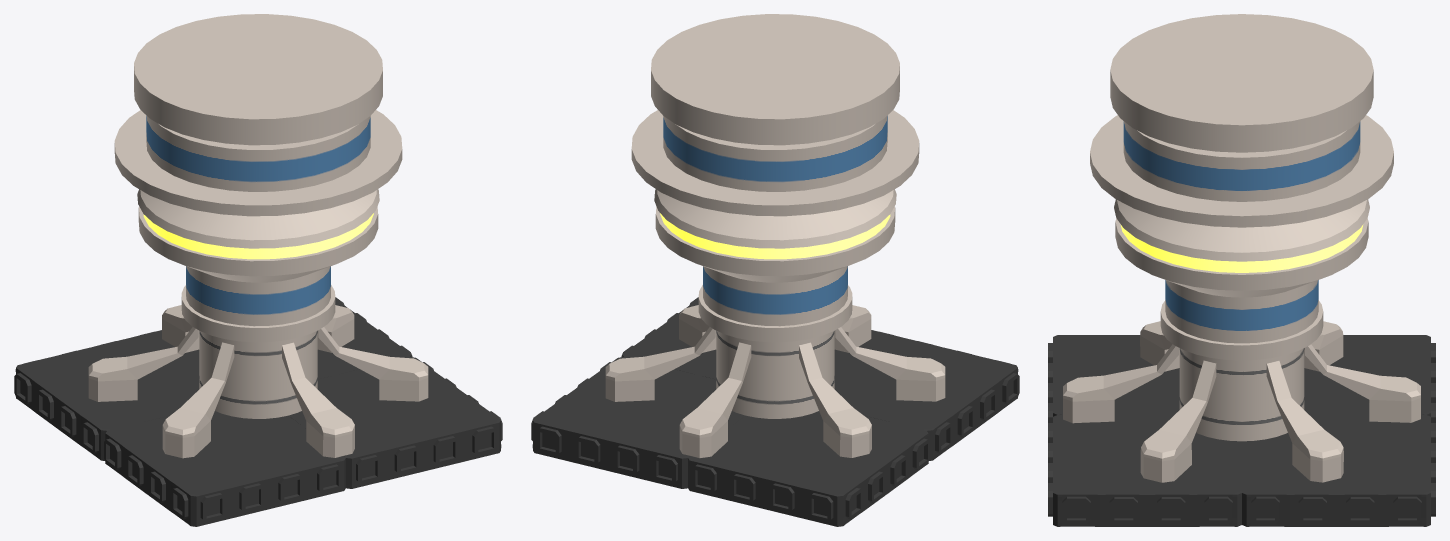
Rendered from SoilEnrichmentPlant.fbx.
3 views of the same model, side by side, from view 1: azimuth 30°, elevation 25°; view 2: azimuth 150°, elevation 25°; view 3: azimuth 270°, elevation 25° (orthographic). The views are drawn at different scales.
Visible parts, largest first — view 1: Cylinder.002, Base8x8, beams, light; view 2: Cylinder.002, Base8x8, beams, light; view 3: Cylinder.002, Base8x8, beams, light.
Part boxes in pixels (x1,y1,x2,y2): Cylinder.002: (114,14,402,418); Base8x8: (14,297,502,526); beams: (88,305,428,458); light: (143,213,373,259); Cylinder.002: (631,14,919,418); Base8x8: (531,297,1019,526); beams: (605,305,945,457); light: (660,213,890,259); Cylinder.002: (1090,14,1393,441); Base8x8: (1048,335,1435,526); beams: (1063,321,1420,482); light: (1120,224,1363,272).
Bounding box in the file's own units: 820 × 881 × 820.
Materials: 3 (1 with a texture image).
